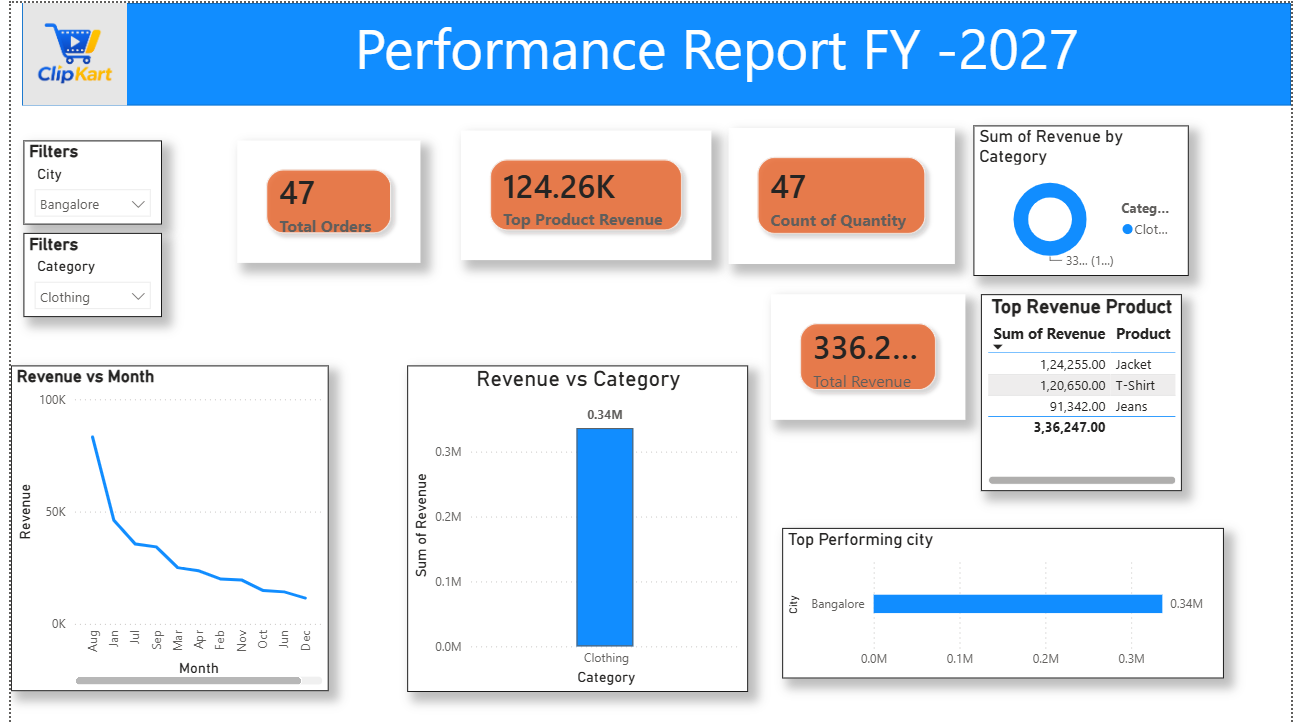

The page's visual inventory and layout, read from the dashboard file:
{"tool":"powerbi","page":{"name":"Page 1","canvas":[1280,720],"ordinal":0},"visuals":[{"type":"shape","box":[11.6,0,1268.8,102.7],"z":0},{"type":"image","box":[0,0,127.8,102.7],"z":1000},{"type":"textbox","box":[339,0,941.4,89.1],"z":2000},{"type":"cardVisual","fields":{"Data":["Sum(clipkart_ecommerce_data.Revenue)"]},"box":[759.4,291,194.4,126],"z":3000},{"type":"columnChart","title":" Revenue vs Category","fields":{"Category":["clipkart_ecommerce_data.Category"],"Y":["Sum(clipkart_ecommerce_data.Revenue)"]},"box":[396.8,362.1,340.5,326.1],"z":5000},{"type":"tableEx","title":"Top Revenue Product","fields":{"Values":["Sum(clipkart_ecommerce_data.Revenue)","clipkart_ecommerce_data.Product"]},"box":[969.7,291,200.5,196.9],"z":6000},{"type":"cardVisual","fields":{"Data":["CountNonNull(clipkart_ecommerce_data.OrderID)"]},"box":[226.2,137,183.4,122.3],"z":7000},{"type":"cardVisual","fields":{"Data":["CountNonNull(clipkart_ecommerce_data.Quantity)"]},"box":[717.8,124.7,226.2,135.7],"z":8000},{"type":"clusteredBarChart","title":"Top Performing city","fields":{"Y":["Sum(clipkart_ecommerce_data.Revenue)"],"Category":["clipkart_ecommerce_data.City"]},"box":[771.6,524.6,441.4,150.4],"z":9000},{"type":"donutChart","fields":{"Category":["clipkart_ecommerce_data.Category"],"Y":["Sum(clipkart_ecommerce_data.Revenue)"]},"box":[962.3,122.6,215,150],"z":11000},{"type":"cardVisual","fields":{"Data":["clipkart_ecommerce_data.Top Product Revenue"]},"box":[450,127.2,250.7,129.6],"z":12000},{"type":"slicer","title":"Filters","fields":{"Values":["clipkart_ecommerce_data.City"]},"box":[12.2,137,138.2,84.4],"z":12001},{"type":"slicer","title":"Filters","fields":{"Values":["clipkart_ecommerce_data.Category"]},"box":[12.2,229.9,138.2,84.4],"z":12002},{"type":"lineChart","title":"Revenue vs Month","fields":{"Category":["clipkart_ecommerce_data.Month"],"Y":["Sum(clipkart_ecommerce_data.Revenue)"]},"box":[0,362.2,317.8,325.6],"z":12003}]}

Visuals, with their boxes in screenshot pixels (x1, y1, x2, y2), scaled from the page's 1280x720 canvas onto the 1307x723 screenshot:
shape: 12,0,1306,103
image: 0,0,130,103
textbox: 346,0,1306,89
cardVisual - Sum(clipkart_ecommerce_data.Revenue): 775,292,974,419
" Revenue vs Category" columnChart: 405,364,753,691
"Top Revenue Product" tableEx: 990,292,1195,490
cardVisual - CountNonNull(clipkart_ecommerce_data.OrderID): 231,138,418,260
cardVisual - CountNonNull(clipkart_ecommerce_data.Quantity): 733,125,964,261
"Top Performing city" clusteredBarChart: 788,527,1239,678
donutChart - clipkart_ecommerce_data.Category x Sum(clipkart_ecommerce_data.Revenue): 983,123,1202,274
cardVisual - clipkart_ecommerce_data.Top Product Revenue: 459,128,715,258
"Filters" slicer: 12,138,154,222
"Filters" slicer: 12,231,154,316
"Revenue vs Month" lineChart: 0,364,325,691
